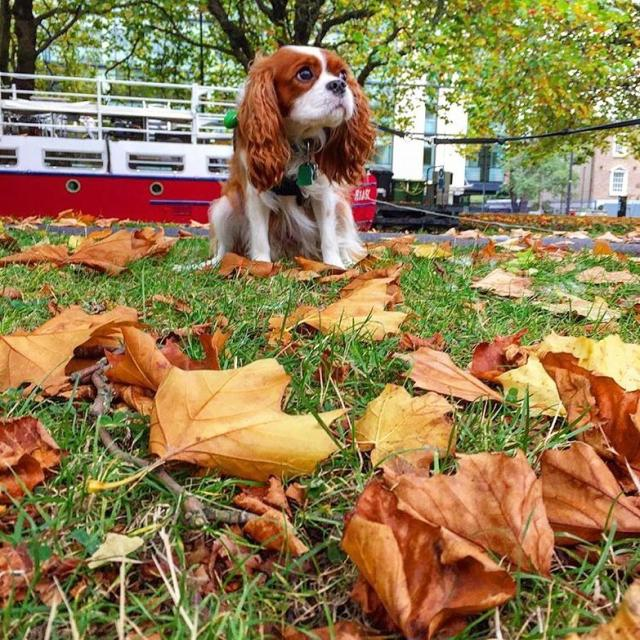squatting: (194, 43, 392, 274)
